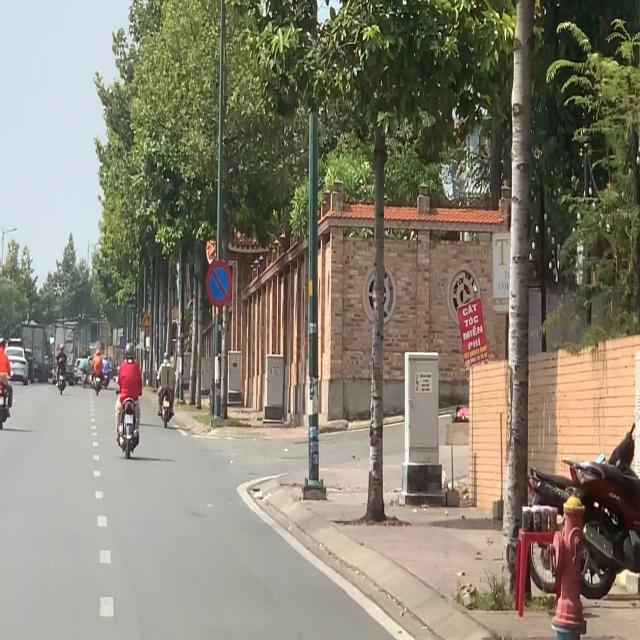Cam do: (205, 260, 232, 308)
Cam dung va do: (120, 336, 126, 349)
Nguy hiem: (140, 311, 150, 327)
